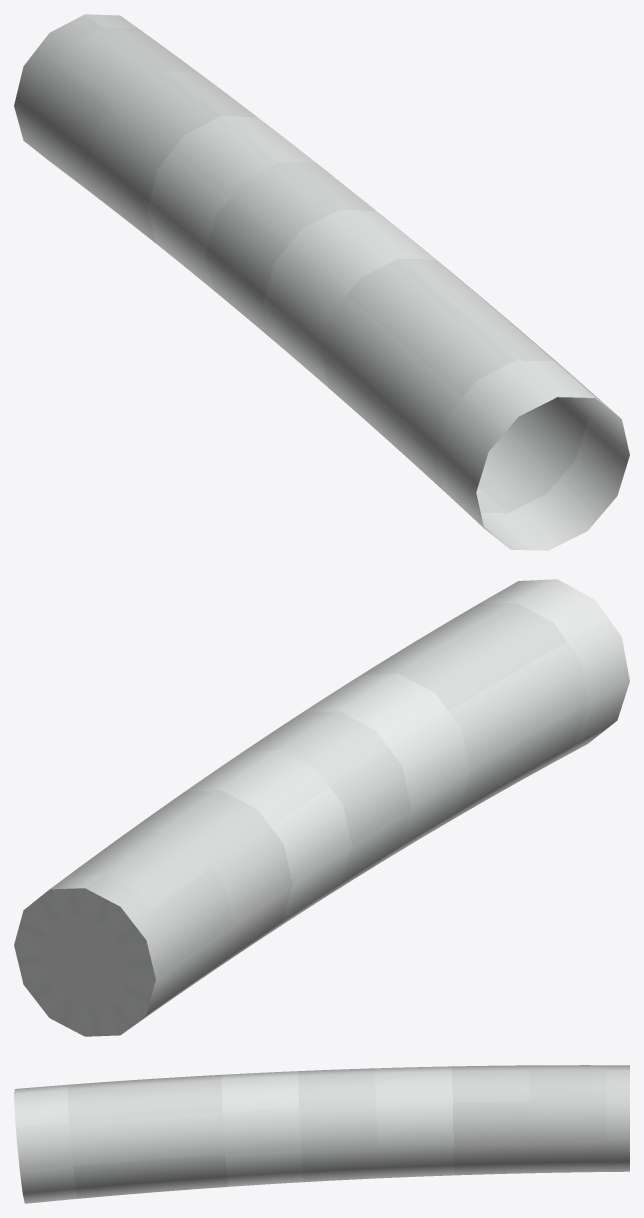
Rendered from luminairearm_caltrans15ft_c7.obj.
The picture shows the model from 3 angles, top to bottom: view 1: azimuth 30°, elevation 25°; view 2: azimuth 150°, elevation 25°; view 3: azimuth 270°, elevation 25°; orthographic projection. The views are drawn at different scales.
Parts seen in each view (by area): view 1: luminairearm_caltrans15ft_c7; view 2: luminairearm_caltrans15ft_c7; view 3: luminairearm_caltrans15ft_c7.
Boxes of the visible parts, left/top/right/bottom form: luminairearm_caltrans15ft_c7: left=14, top=14, right=629, bottom=550; luminairearm_caltrans15ft_c7: left=14, top=579, right=629, bottom=1036; luminairearm_caltrans15ft_c7: left=14, top=1065, right=629, bottom=1203.
Bounding box in the file's own units: 0.1896 × 0.2325 × 1.01.
